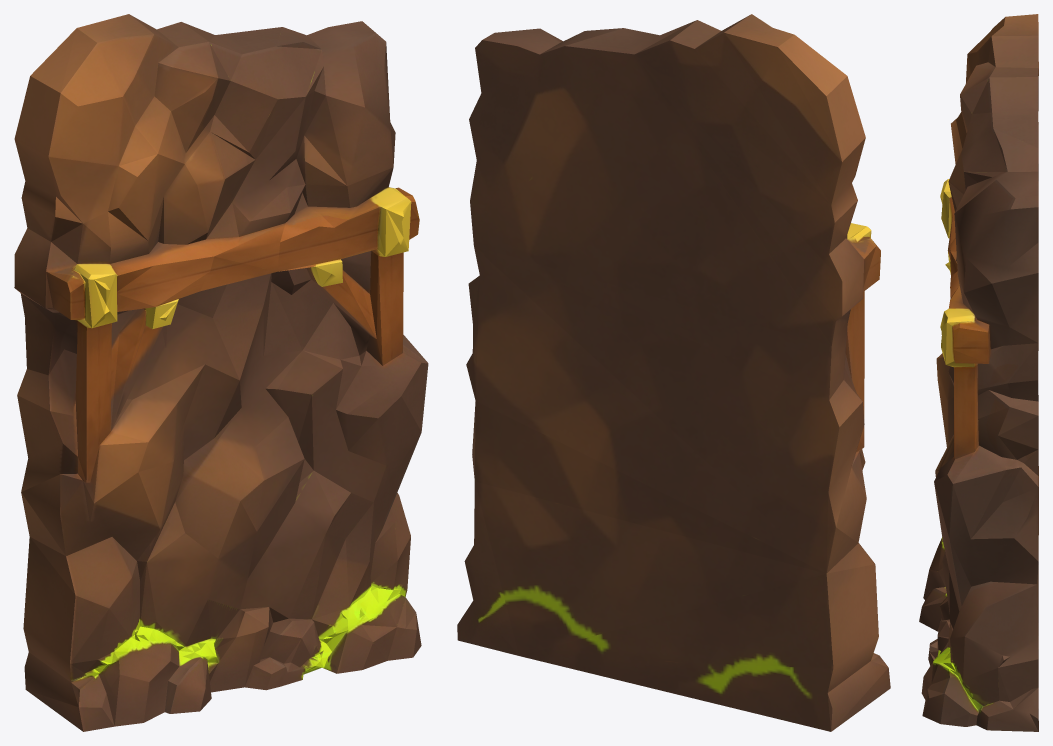
Rendered from TWN_WAL_cavern_A.glb.
3 views of the same model, side by side, from view 1: azimuth 30°, elevation 25°; view 2: azimuth 150°, elevation 25°; view 3: azimuth 270°, elevation 25° (orthographic). The views are drawn at different scales.
Parts seen in each view (by area): view 1: Mesh_0; view 2: Mesh_0; view 3: Mesh_0.
Boxes of the visible parts, x1=… form: Mesh_0: x1=14, y1=14, x2=428, y2=731; Mesh_0: x1=457, y1=14, x2=890, y2=731; Mesh_0: x1=919, y1=14, x2=1038, y2=731.
Size of the model in its own units: 1.14 by 1.9 by 0.3533.
Materials: 1 (1 with a texture image).
